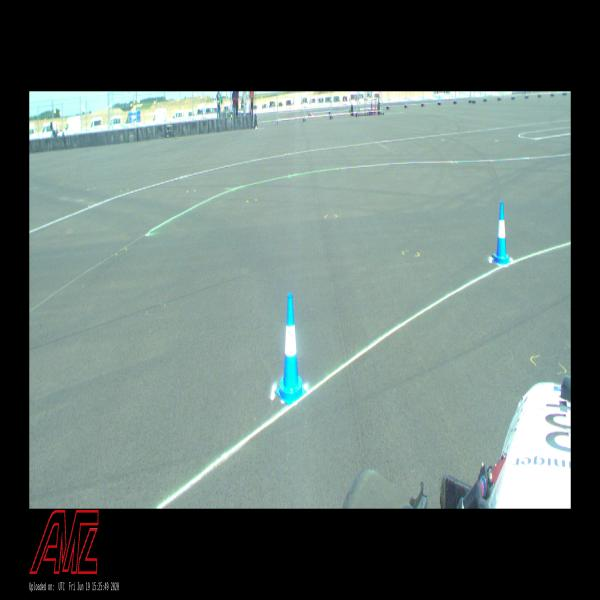blue_cone: (276, 293, 306, 405), (492, 202, 511, 266)
